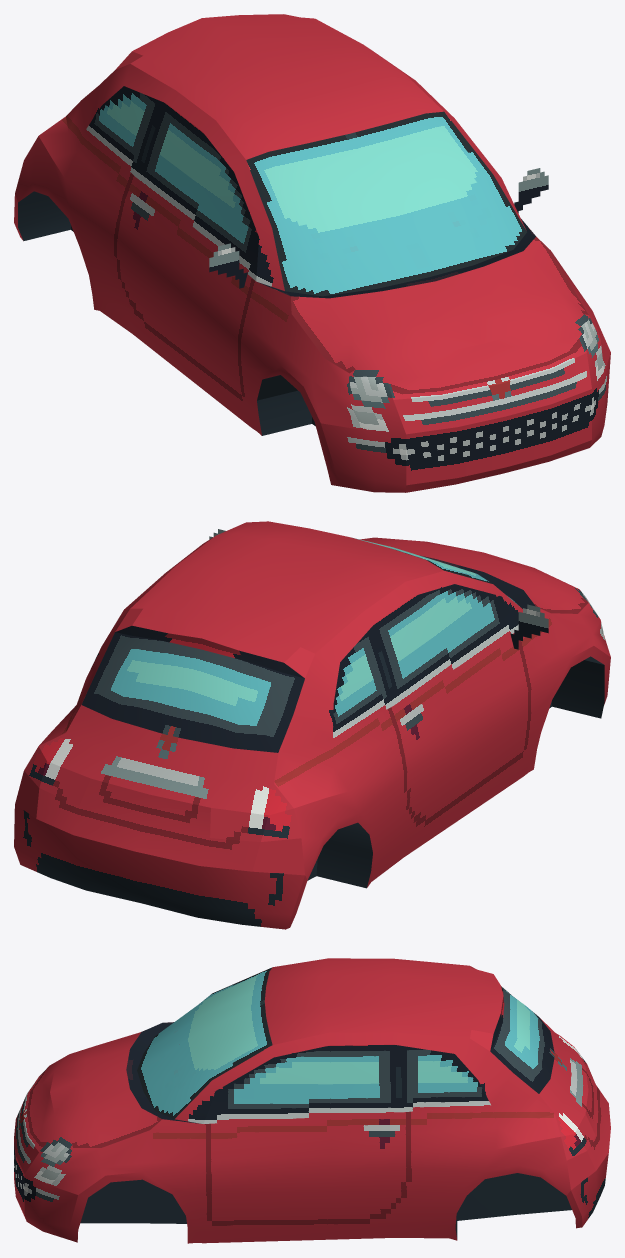
The model's file is Fiat500.glb.
The picture shows the model from 3 angles, top to bottom: view 1: azimuth 30°, elevation 25°; view 2: azimuth 150°, elevation 25°; view 3: azimuth 270°, elevation 25°; orthographic projection. The views are drawn at different scales.
Parts seen in each view (by area): view 1: BodyFiat500; view 2: BodyFiat500; view 3: BodyFiat500.
Part boxes in pixels (x1,y1,x2,y2): BodyFiat500: (14, 14, 610, 492); BodyFiat500: (14, 521, 610, 929); BodyFiat500: (14, 958, 610, 1243).
Size of the model in its own units: 1.85 by 1.3 by 3.51.
Materials: 1 (1 with a texture image).
